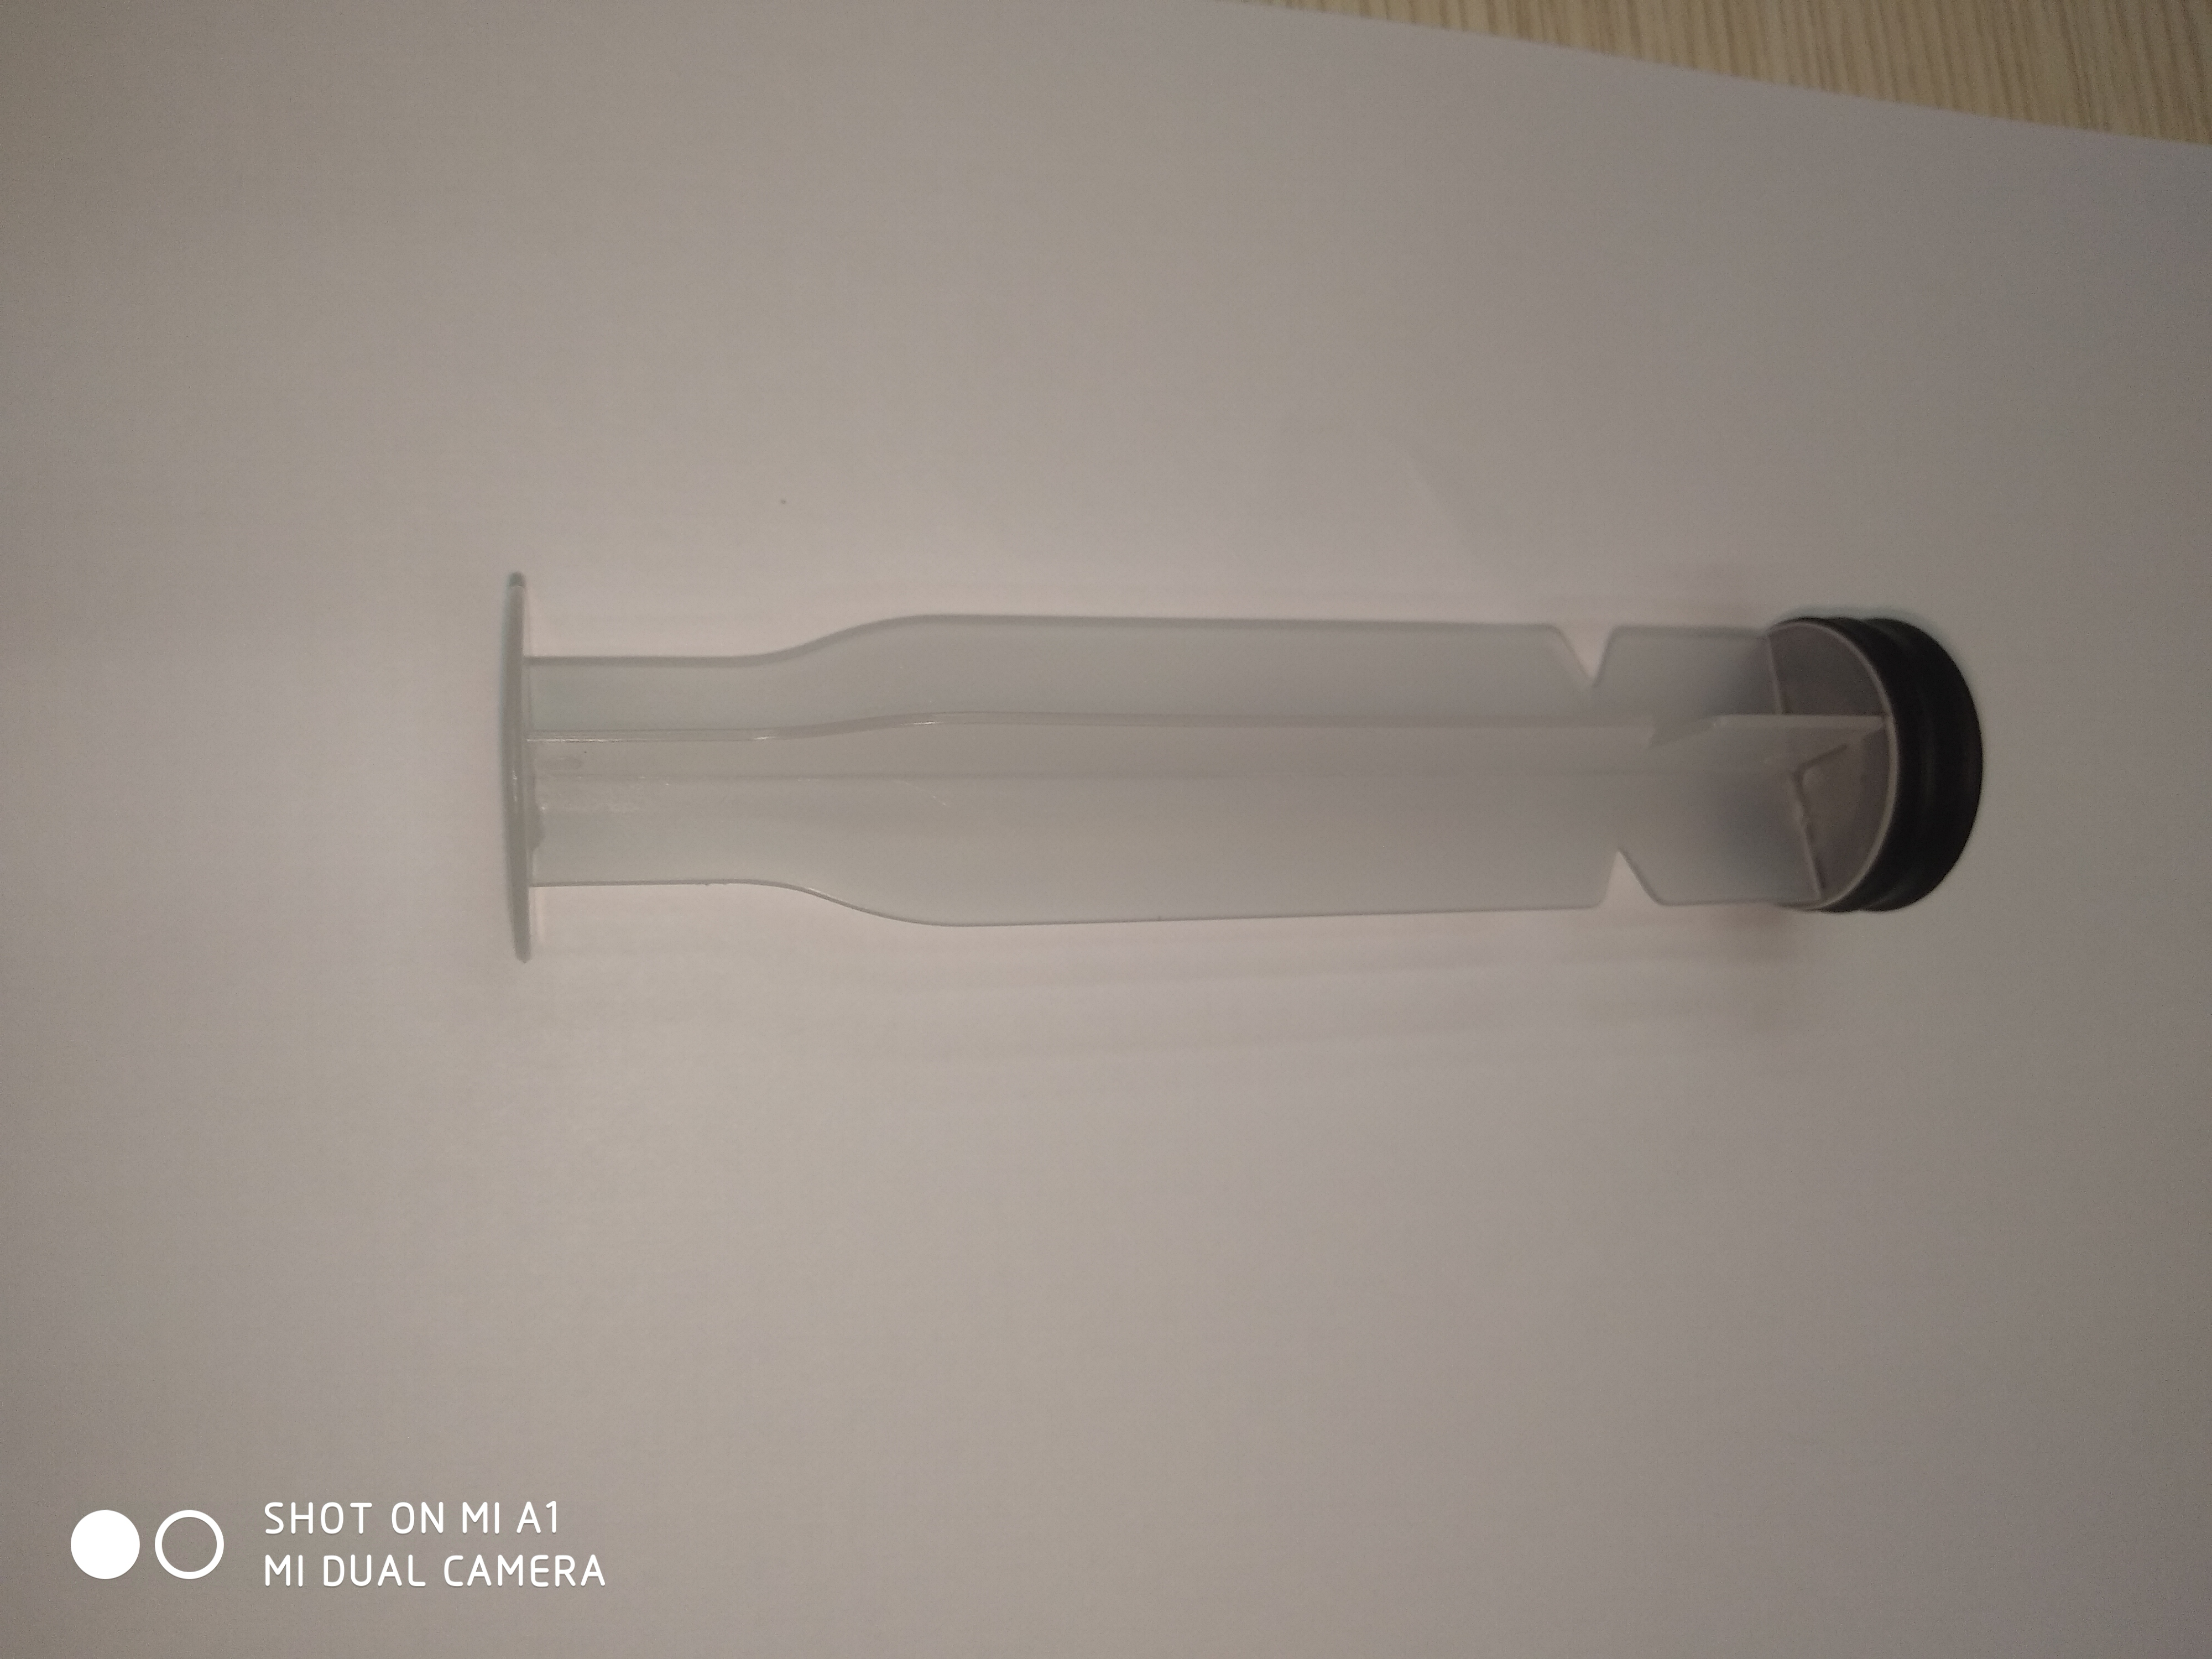plunger: (489, 558, 2001, 976)
